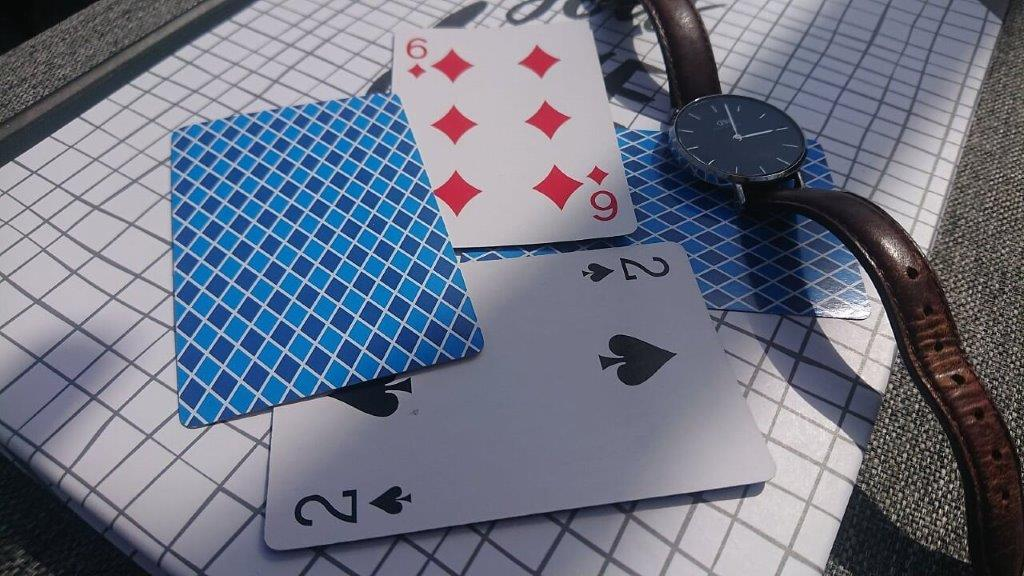6D: (401, 34, 432, 84)
BACK: (167, 90, 485, 431)
